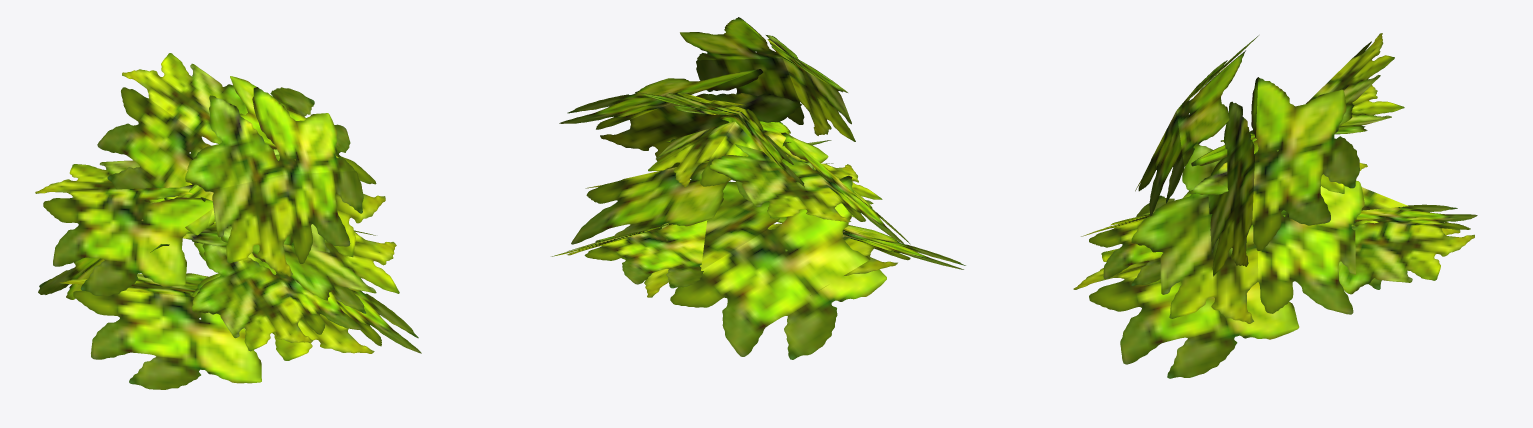
File: hua11.FBX
3 views of the same model, side by side, from view 1: azimuth 30°, elevation 25°; view 2: azimuth 150°, elevation 25°; view 3: azimuth 270°, elevation 25° (orthographic). The views are drawn at different scales.
Visible parts, largest first — view 1: hua10; view 2: hua10; view 3: hua10.
Boxes of the visible parts, x1,y1,x2,y2 form: hua10: (35, 53, 421, 389); hua10: (551, 17, 965, 359); hua10: (1073, 33, 1477, 378).
Bounding box in the file's own units: 67.52 × 45.95 × 64.34.
